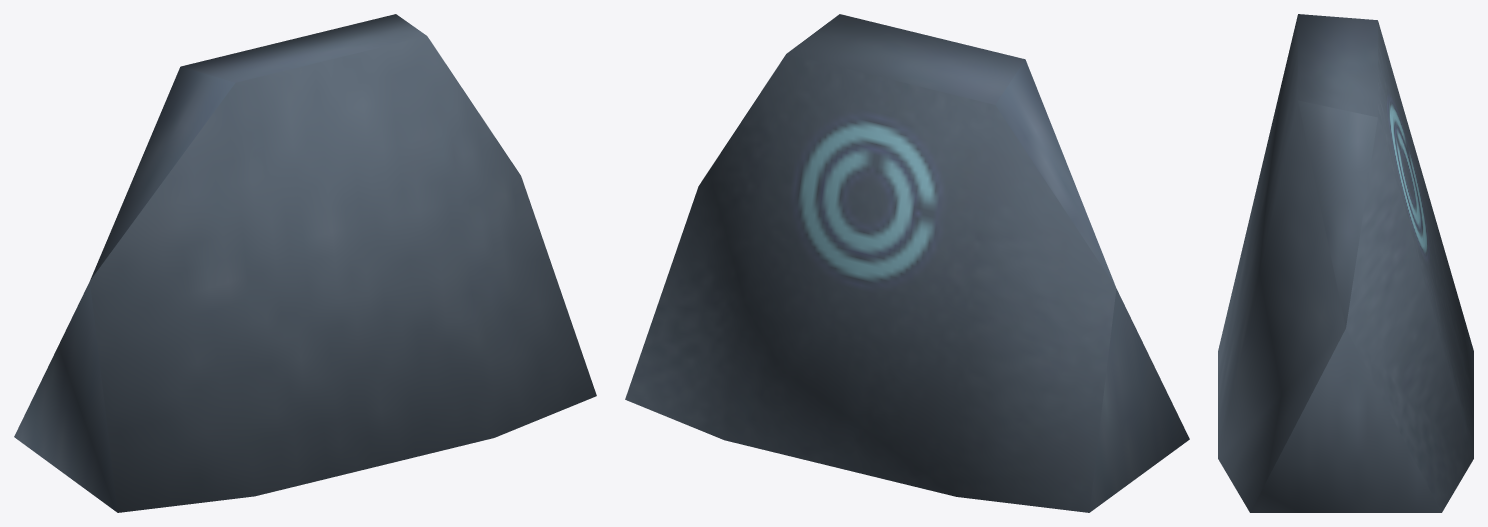
Rendered from Rune_rock.glb.
The picture shows the model from 3 angles, left to right: view 1: azimuth 30°, elevation 25°; view 2: azimuth 150°, elevation 25°; view 3: azimuth 270°, elevation 25°; orthographic projection. The views are drawn at different scales.
Visible parts, largest first — view 1: Cube; view 2: Cube; view 3: Cube.
Part boxes in pixels (bbox=[...]): Cube: bbox=[14, 14, 596, 512]; Cube: bbox=[625, 14, 1189, 512]; Cube: bbox=[1218, 14, 1473, 512].
Size of the model in its own units: 4 by 3 by 2.
2 materials, 1 textured.
